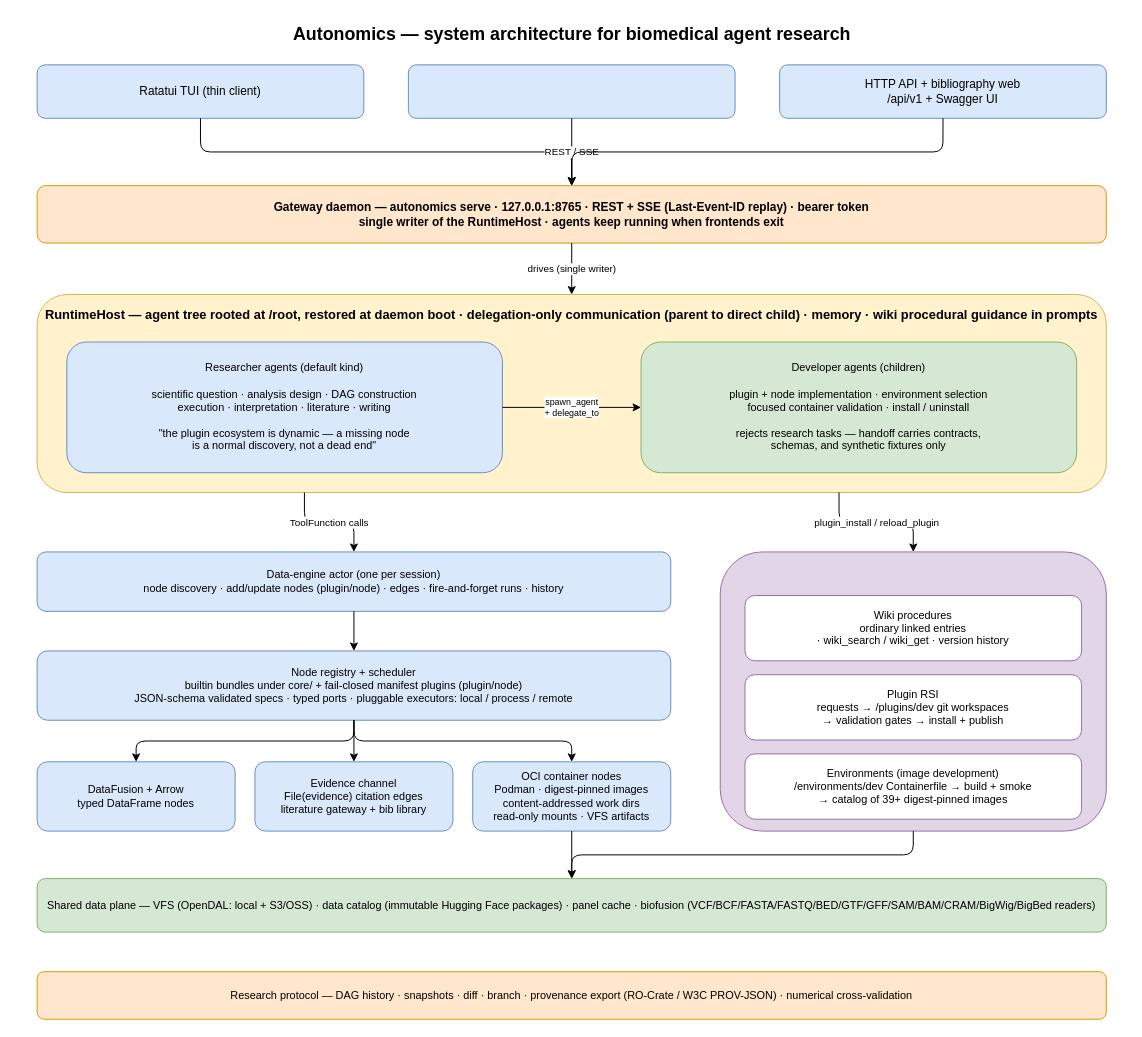
Image size: 1142x1037. Some labels were removed from this diagram. Each missing label, with the box of its shape:
Headless CLI autonomics run --json: (407, 64, 735, 118)
Self-improvement substrate — agents draft · gates validate · humans promote: (719, 551, 1106, 831)
